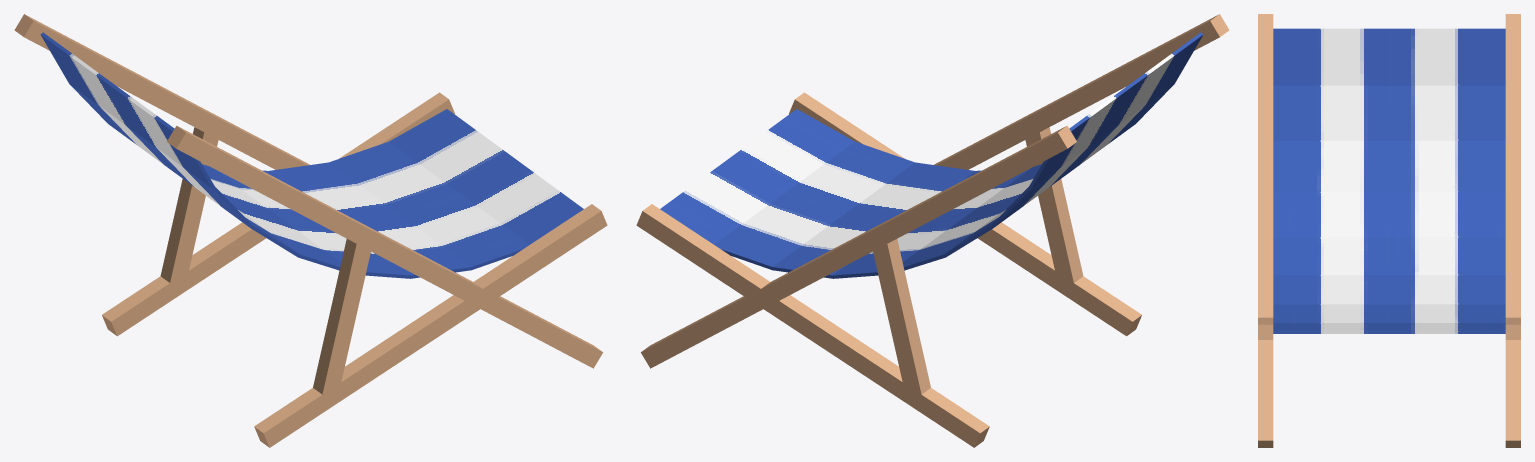
File: beachchair.glb
3 renders of one model, left to right at view 1: azimuth 30°, elevation 25°; view 2: azimuth 150°, elevation 25°; view 3: azimuth 270°, elevation 25°, orthographic. The views are drawn at different scales.
Visible parts, largest first — view 1: Fabric, Leg.003, Leg.001, Leg.002, Leg, Leg.005, Leg.004; view 2: Fabric, Leg, Leg.002, Leg.003, Leg.001, Leg.004, Leg.005; view 3: Fabric, Leg.002, Leg.003, Leg, Leg.001.
Boxes of the visible parts, bbox=[...] form: Fabric: bbox=[40, 32, 583, 278]; Leg.003: bbox=[167, 125, 602, 368]; Leg.001: bbox=[254, 204, 607, 447]; Leg.002: bbox=[14, 14, 309, 169]; Leg: bbox=[102, 92, 454, 336]; Leg.005: bbox=[313, 237, 373, 400]; Leg.004: bbox=[160, 126, 221, 288]; Fabric: bbox=[660, 32, 1203, 278]; Leg: bbox=[636, 204, 989, 447]; Leg.002: bbox=[641, 125, 1076, 368]; Leg.003: bbox=[934, 14, 1229, 169]; Leg.001: bbox=[789, 92, 1141, 336]; Leg.004: bbox=[873, 238, 930, 400]; Leg.005: bbox=[1025, 127, 1083, 282]; Fabric: bbox=[1273, 28, 1505, 333]; Leg.002: bbox=[1505, 14, 1520, 447]; Leg.003: bbox=[1258, 14, 1273, 447]; Leg: bbox=[1505, 317, 1520, 339]; Leg.001: bbox=[1258, 317, 1273, 339].
Bounding box in the file's own units: 2.26 × 1.68 × 1.47.
Materials: 7 (1 with a texture image).
